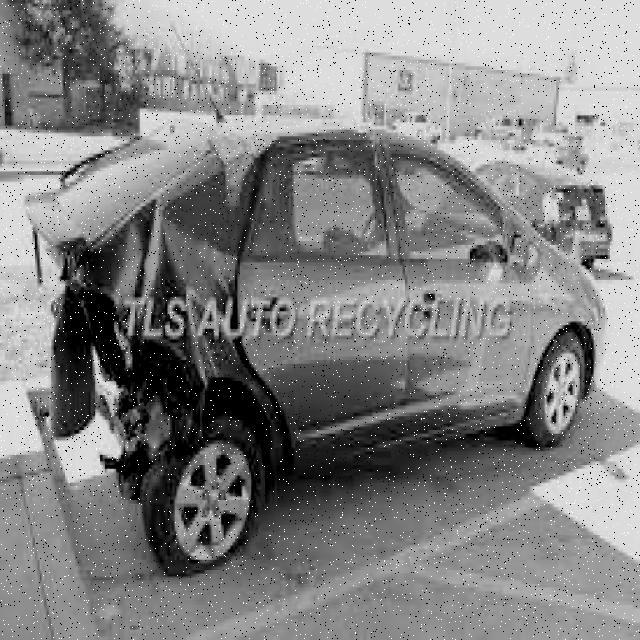car damage: (28, 145, 303, 492)
